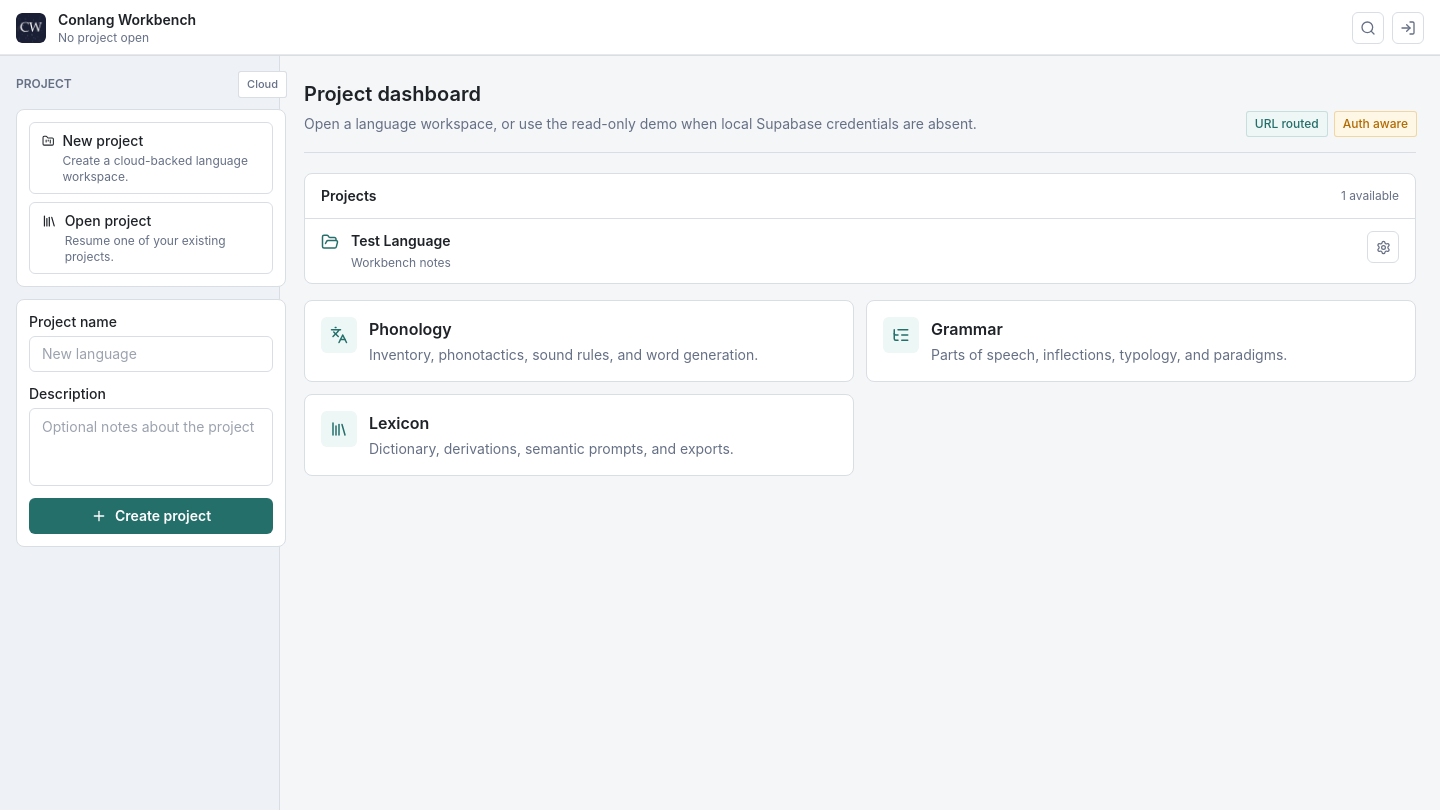
Scenario: project workflow routes › keeps project editing on the dashboard behind a gear action
Step 1. Click the heading named "Edit Test Language" → click(1383, 247), box [1367,231,1399,263]
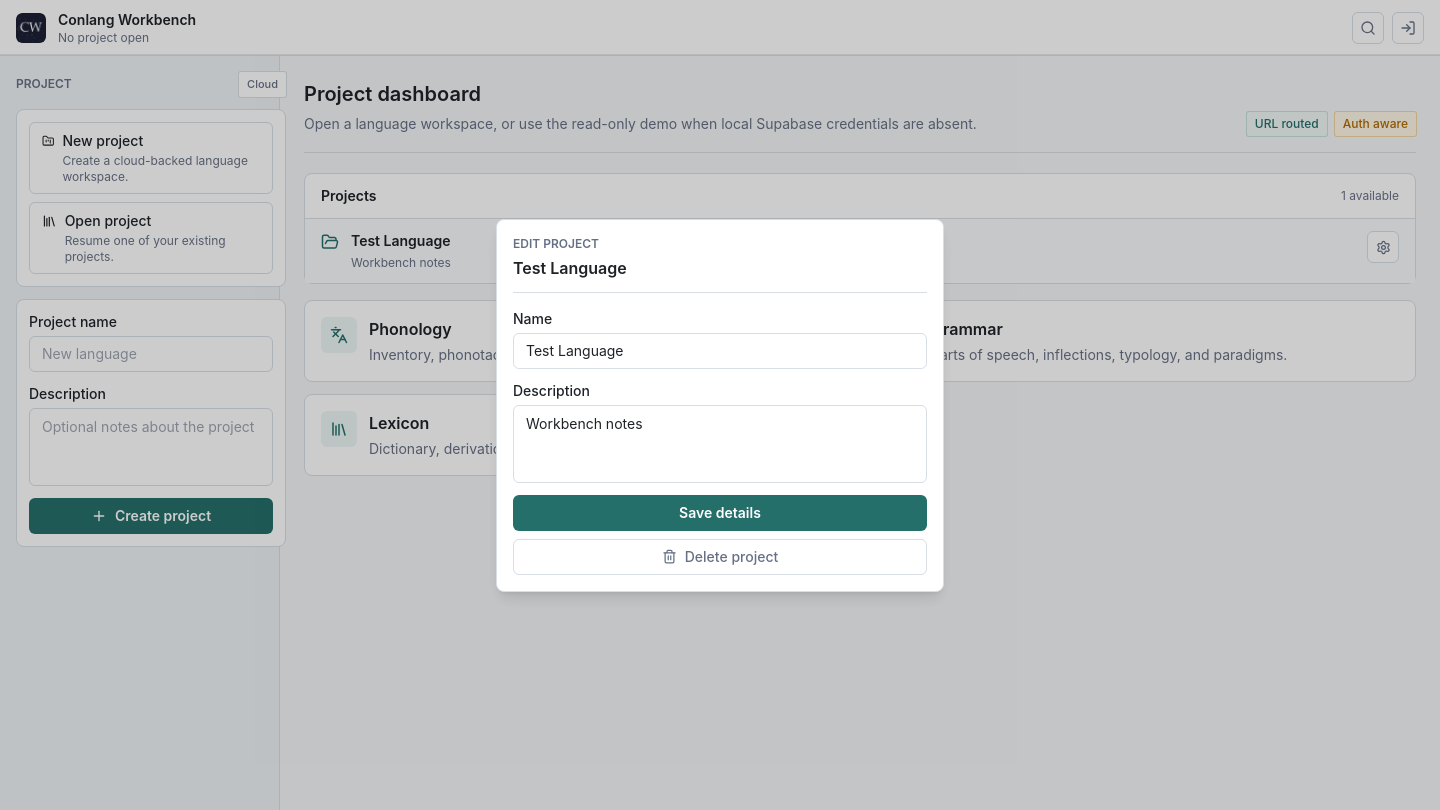
Expected: the button "Save details" is shown, [513,494,927,530]
Expected: the button "Delete project" is shown, [513,538,927,574]
